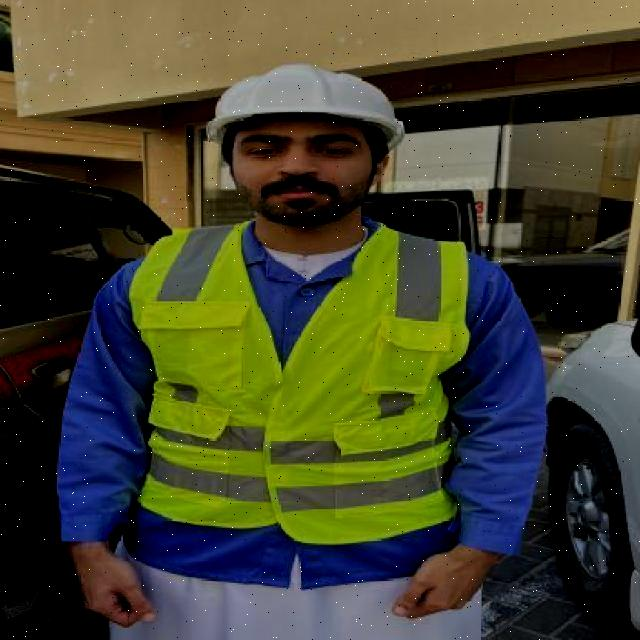Helmet: (212, 62, 403, 224)
Mask: (153, 222, 479, 552)
